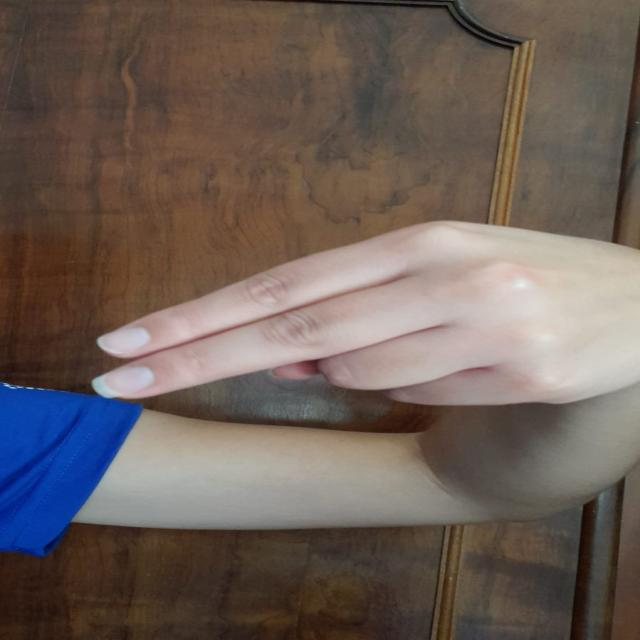N: (74, 184, 640, 458)
